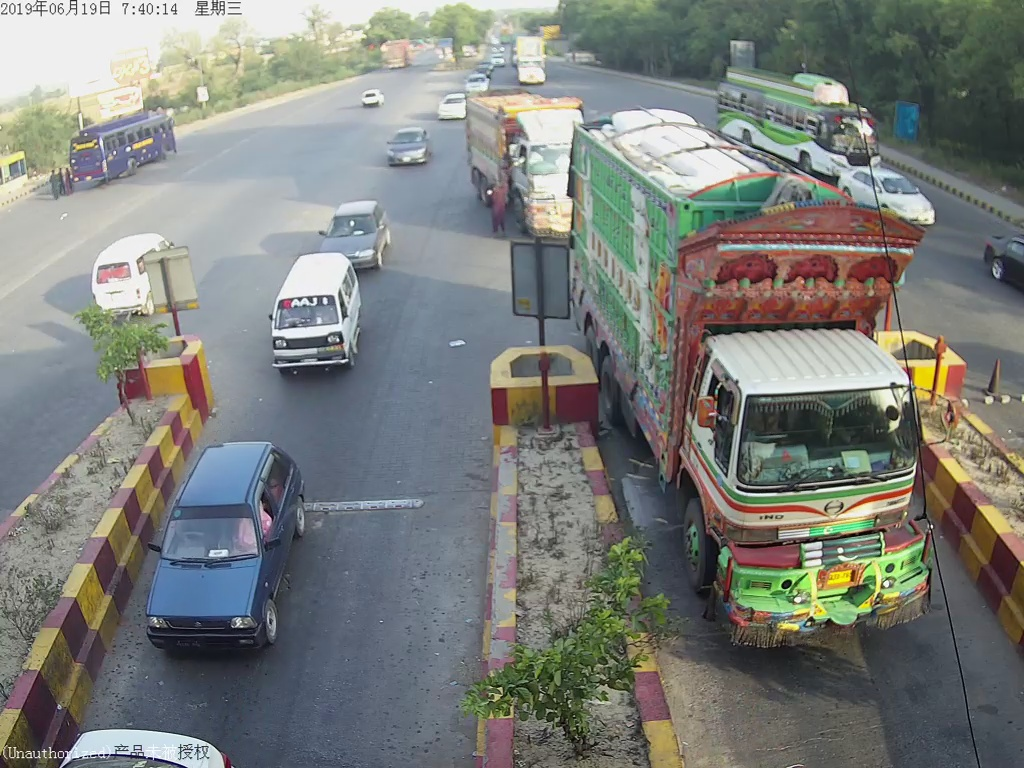Cat-1: (153, 445, 304, 654), (267, 256, 365, 388), (380, 129, 431, 169)
Cat-4: (553, 112, 943, 662)
